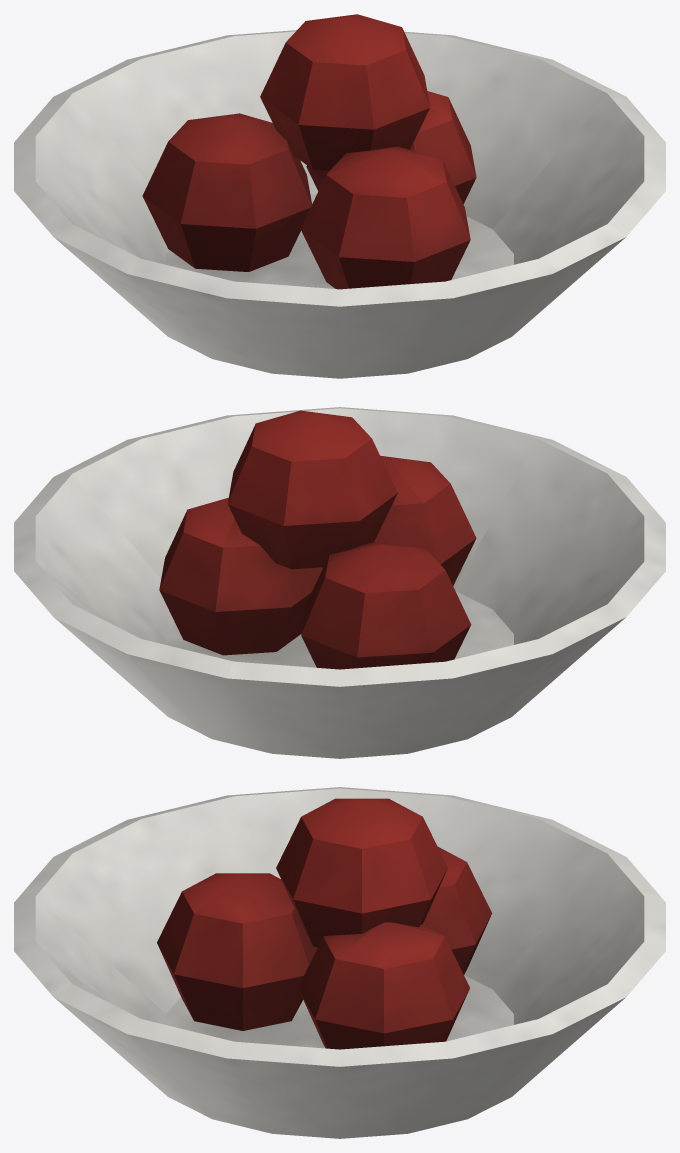
The model's file is H_FruitBowl.fbx.
3 views of the same model, one above another, from view 1: azimuth 30°, elevation 25°; view 2: azimuth 150°, elevation 25°; view 3: azimuth 270°, elevation 25° (orthographic).
Visible parts, largest first — view 1: H_FruitBowl; view 2: H_FruitBowl; view 3: H_FruitBowl.
Part boxes in pixels (x1,y1,x2,y2): H_FruitBowl: [14, 14, 665, 378]; H_FruitBowl: [14, 407, 665, 758]; H_FruitBowl: [14, 787, 665, 1138].
Bounding box in the file's own units: 150 × 66 × 148.
1 material, 1 textured.
